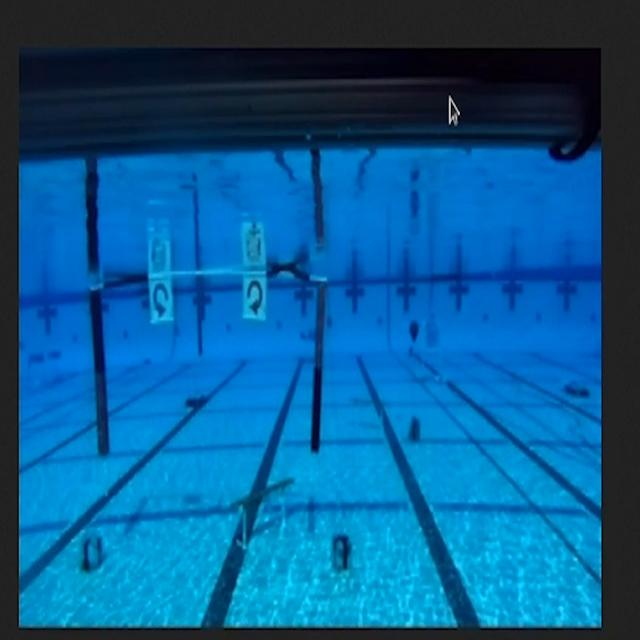Gate: (84, 270, 330, 472)
